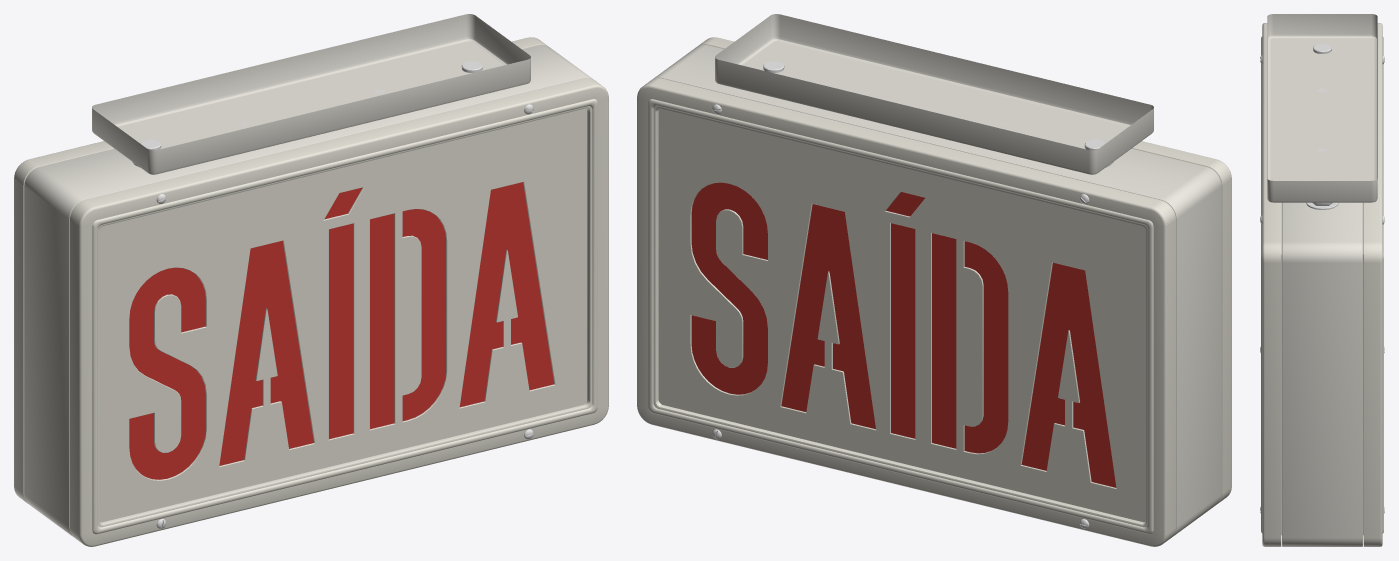
The model's file is Kit_ExitSign_HangingFlush.fbx.
3 views of the same model, side by side, from view 1: azimuth 30°, elevation 25°; view 2: azimuth 150°, elevation 25°; view 3: azimuth 270°, elevation 25° (orthographic). The views are drawn at different scales.
Visible parts, largest first — view 1: Kit_ExitSign_HangingFlush_LOD0; view 2: Kit_ExitSign_HangingFlush_LOD0; view 3: Kit_ExitSign_HangingFlush_LOD0.
Boxes of the visible parts, bbox=[...] form: Kit_ExitSign_HangingFlush_LOD0: bbox=[14, 14, 608, 546]; Kit_ExitSign_HangingFlush_LOD0: bbox=[637, 14, 1231, 546]; Kit_ExitSign_HangingFlush_LOD0: bbox=[1260, 14, 1384, 546].
Size of what is drawn, in the model's own units: 0.346 by 0.237 by 0.0789.
